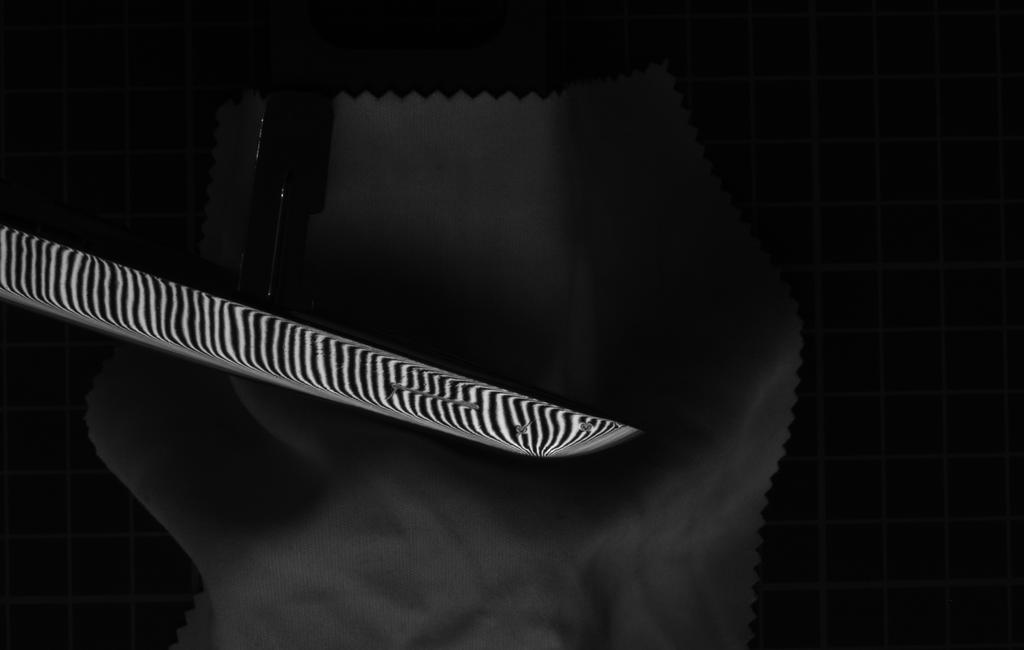Pierced: (505, 417, 534, 441), (574, 418, 596, 437)
Scratch: (374, 378, 489, 418)
